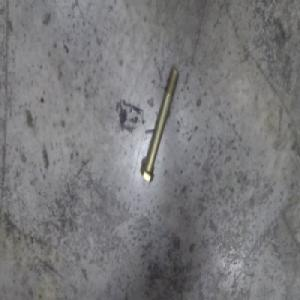Bolt: (139, 67, 182, 182)
